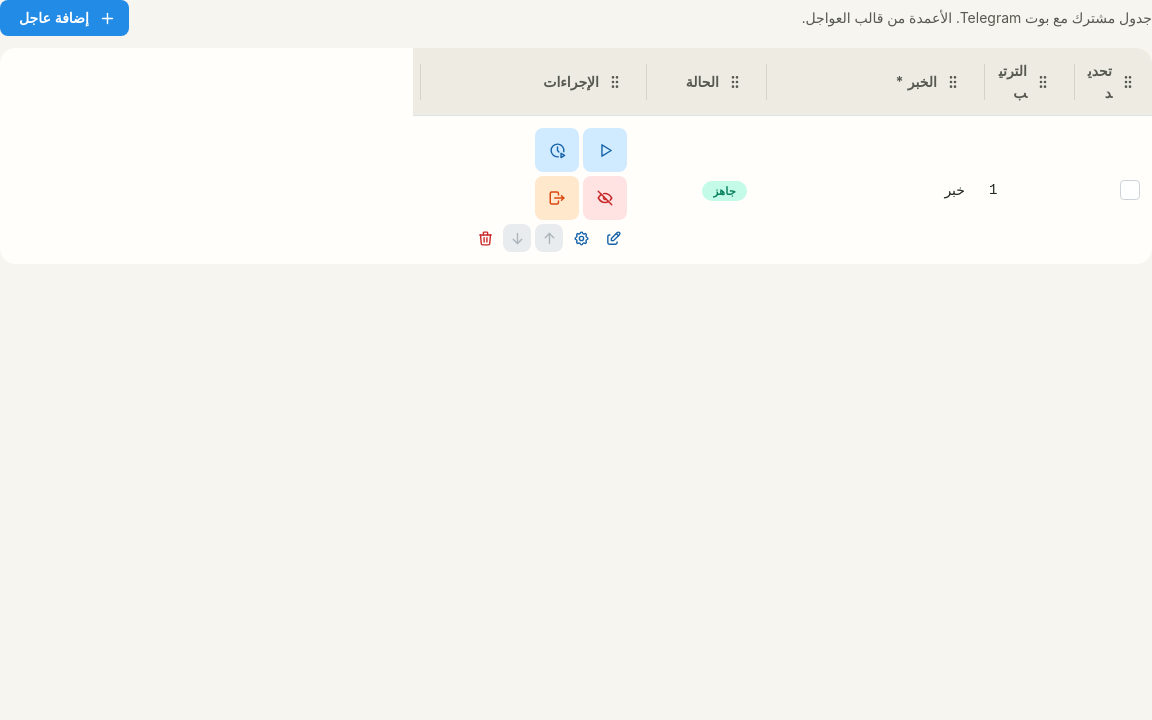
Test case: reviews urgent removal without a manual token when Cinegy reports Urgent
Check: the button named "خروج المعروض (EXIT)" is enabled, box [535,176,579,220]
Click the button named "إخفاء العاجل المعروض" at (605,198), box [583,176,627,220]
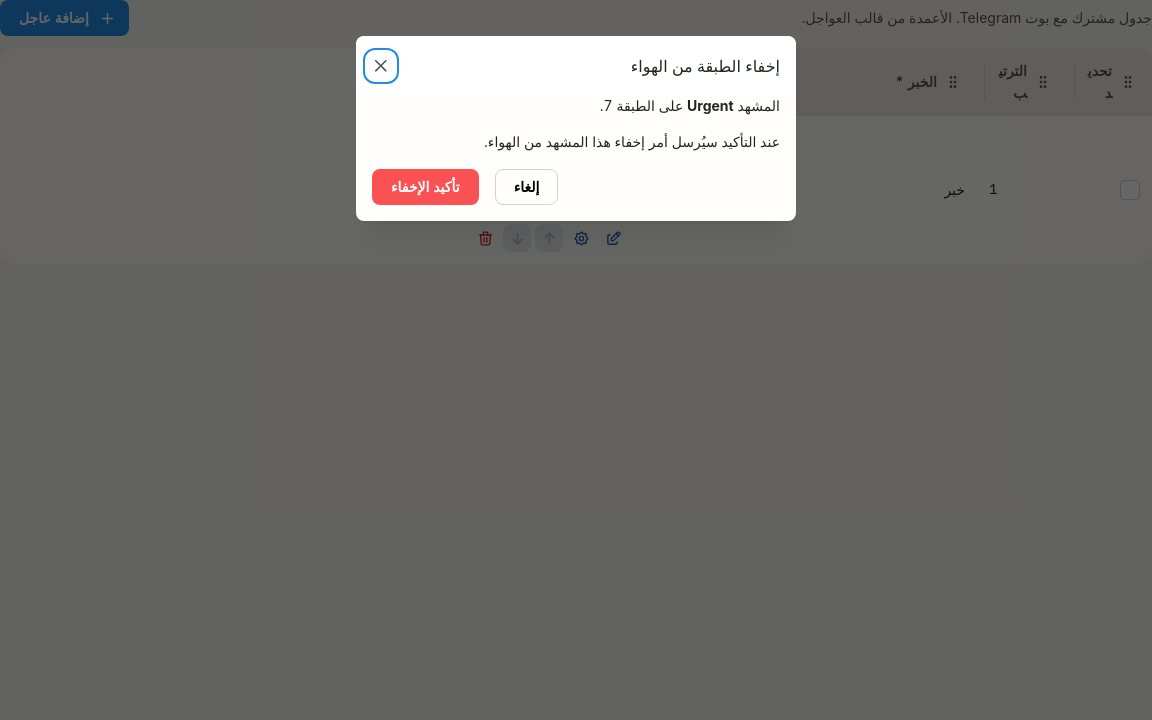
Check: the button "تأكيد الإخفاء" is enabled, box [372,169,479,205]
